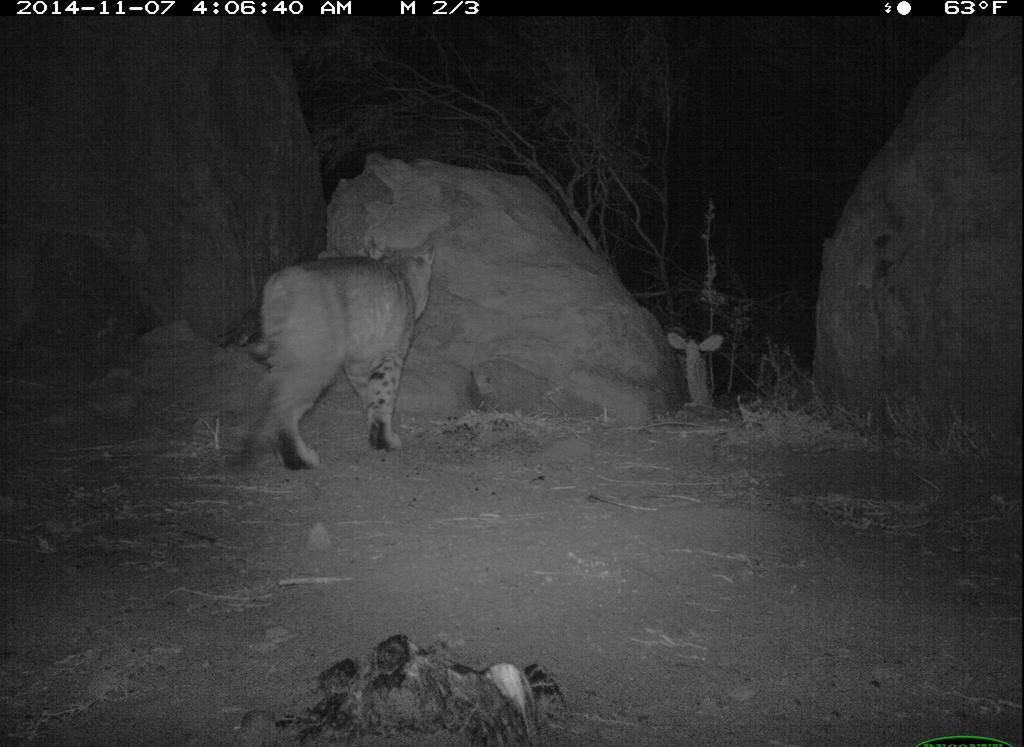bobcat: (230, 236, 447, 473)
